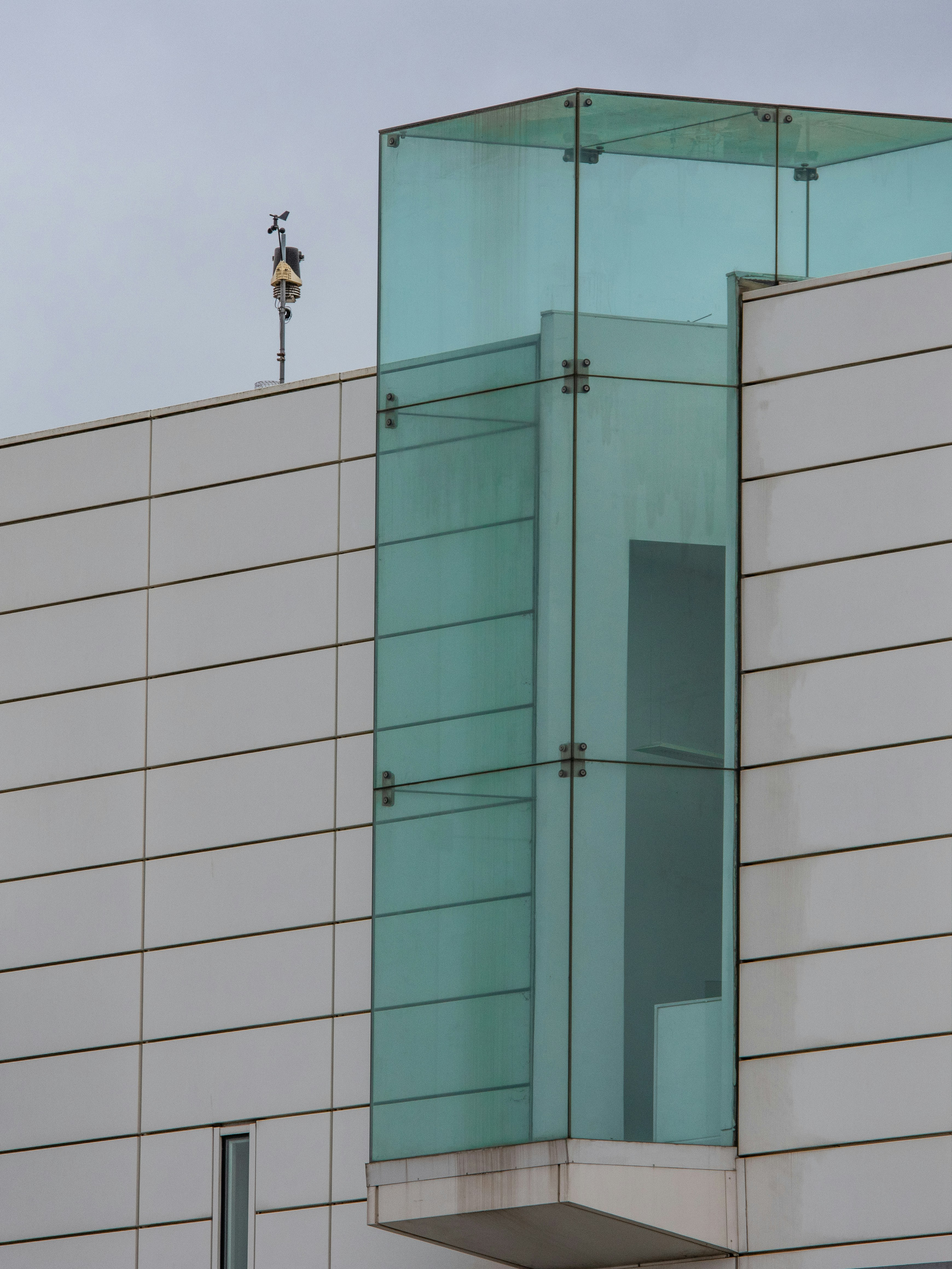glass panel: (375, 381, 572, 787), (372, 764, 569, 1159), (574, 378, 737, 767), (571, 762, 734, 1144), (378, 94, 576, 408), (578, 95, 775, 384), (778, 107, 952, 277)
